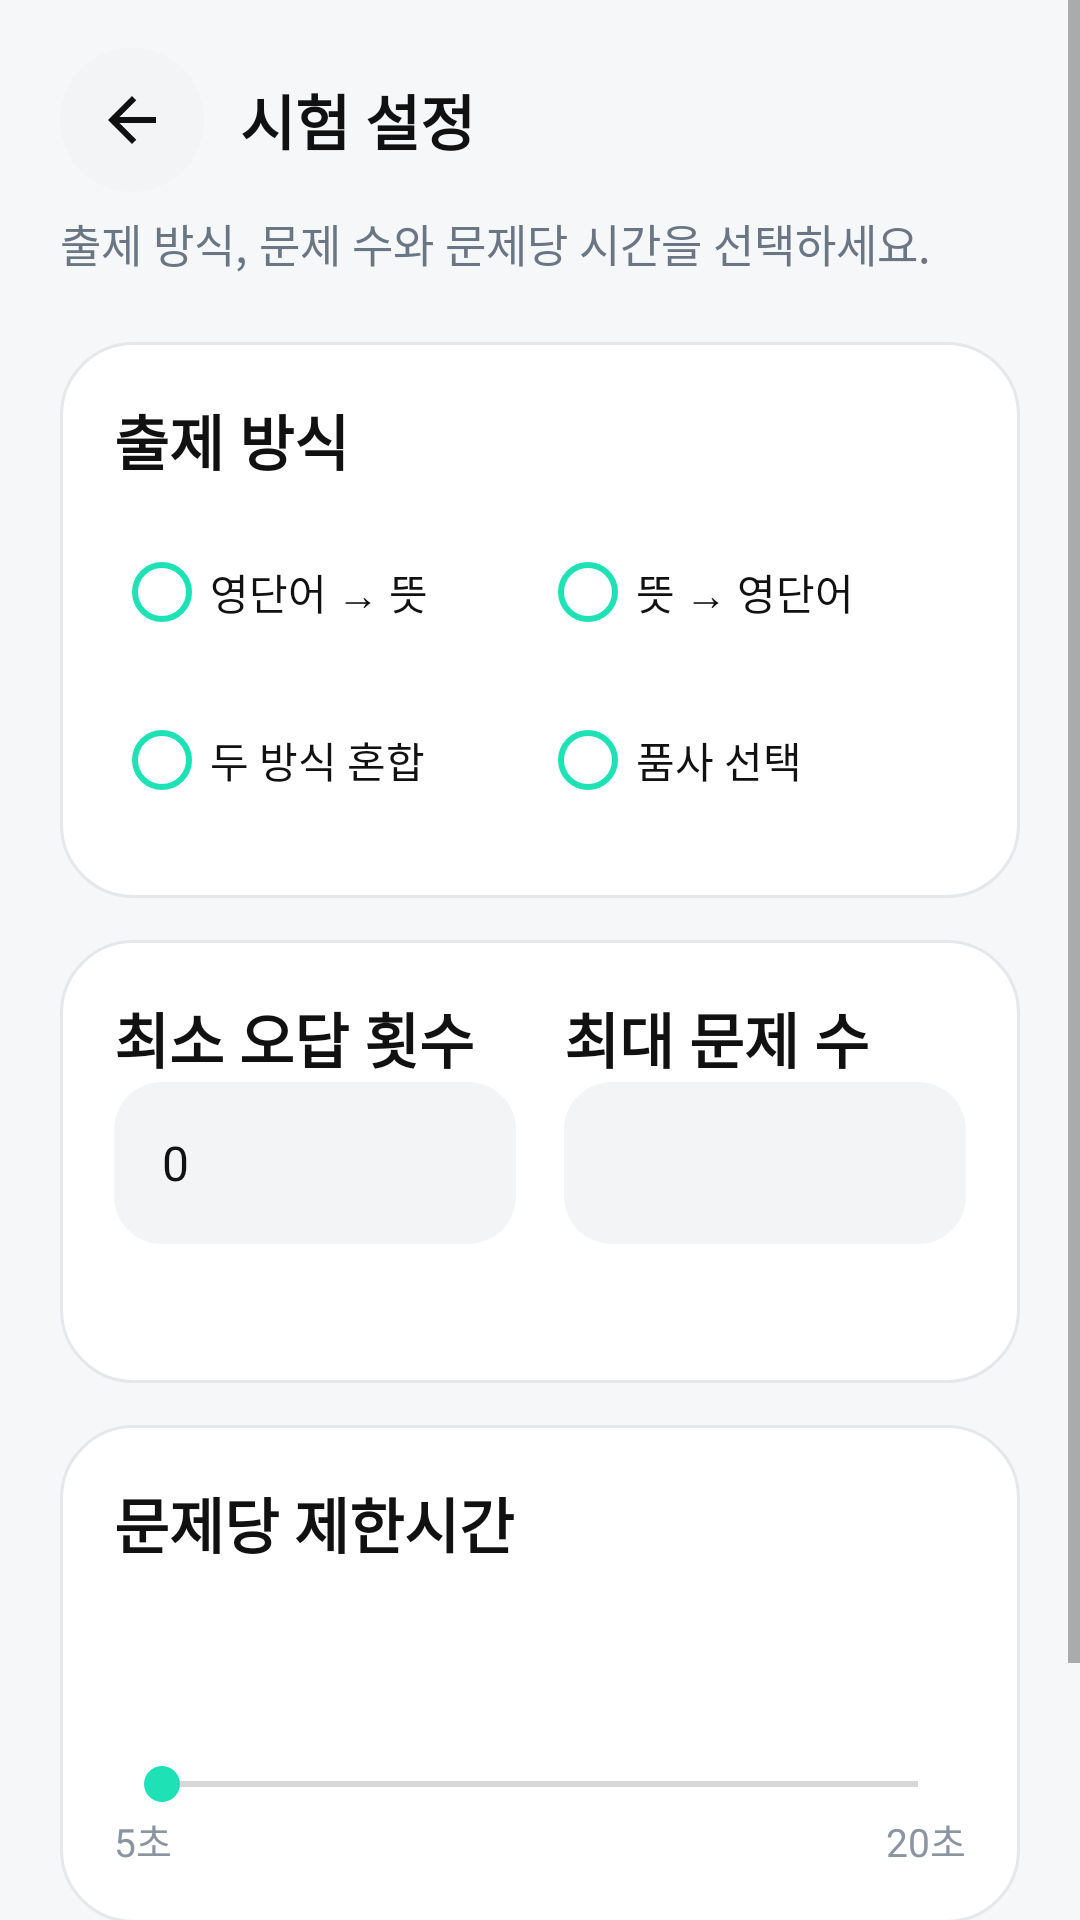

Point at icon controls on the screen. Image size 1080x1920, points as (x=x, y=y).
뒤로 가기: (x=132, y=120)
